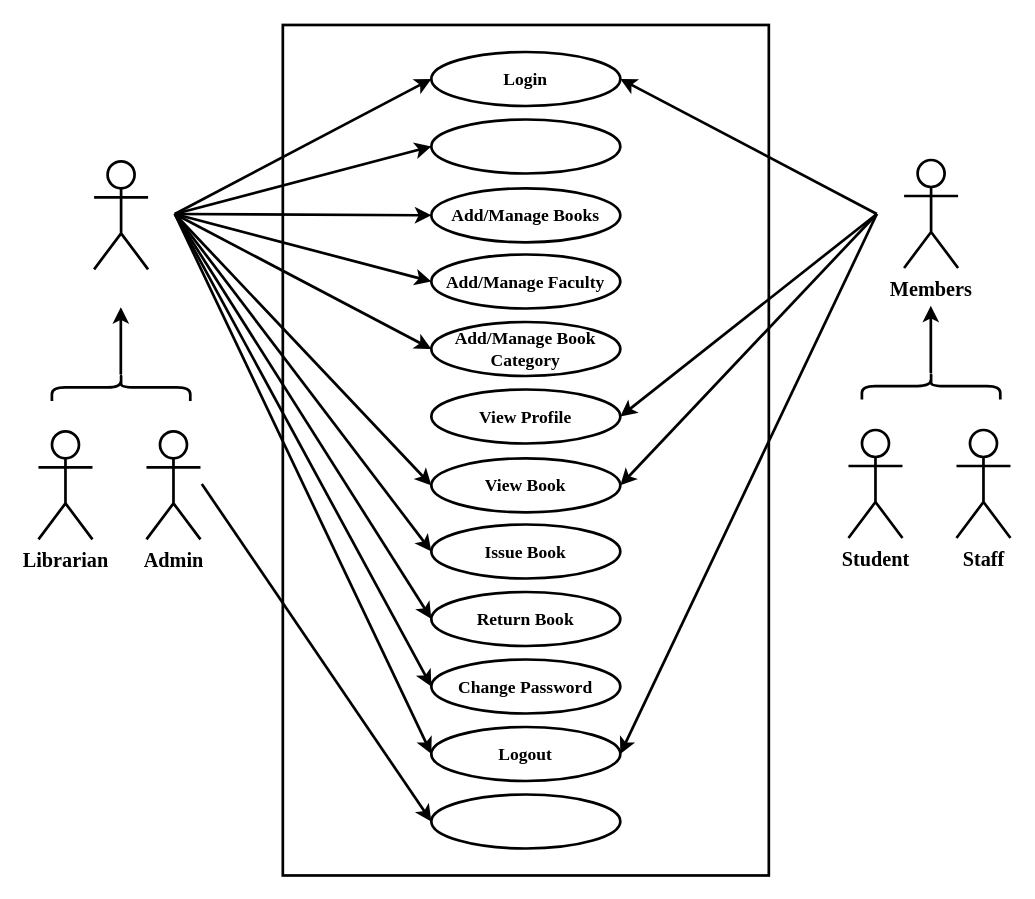
Image size: 1035x899. Some labels were removed from this diagram. The centre of each missing label's shape, as x and y in pixels:
"Add/Manage Librarian" belongs at point 525,820.
"Add/Manage Members" belongs at point 525,145.
